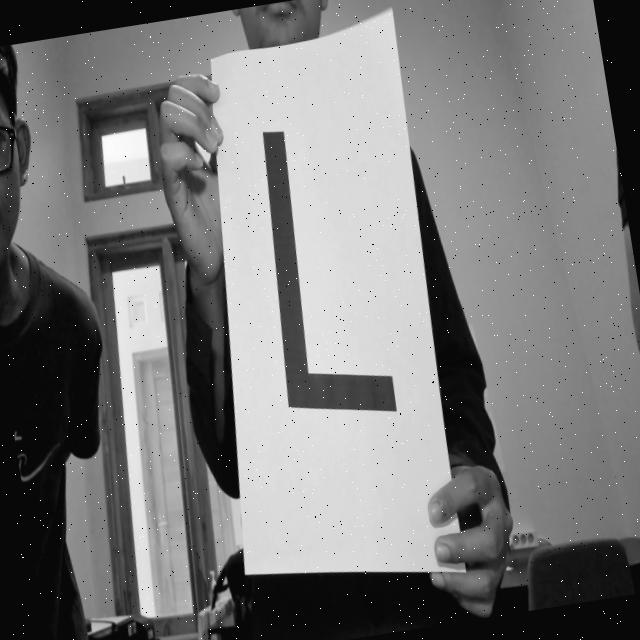l: (235, 103, 430, 473)
